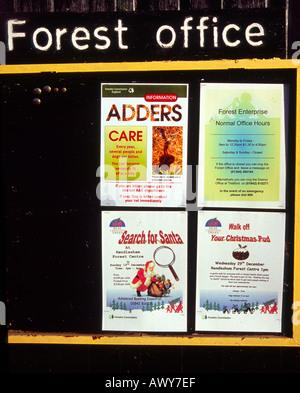paper: (97, 81, 191, 207), (101, 206, 189, 332), (196, 210, 288, 330), (199, 83, 285, 209)
